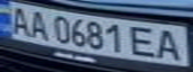0: (48, 14, 72, 45)
1: (103, 21, 127, 54)
6: (66, 16, 87, 47)
8: (84, 19, 106, 51)
A: (151, 27, 187, 62), (3, 3, 33, 36), (27, 8, 51, 41)
E: (127, 24, 163, 58)
